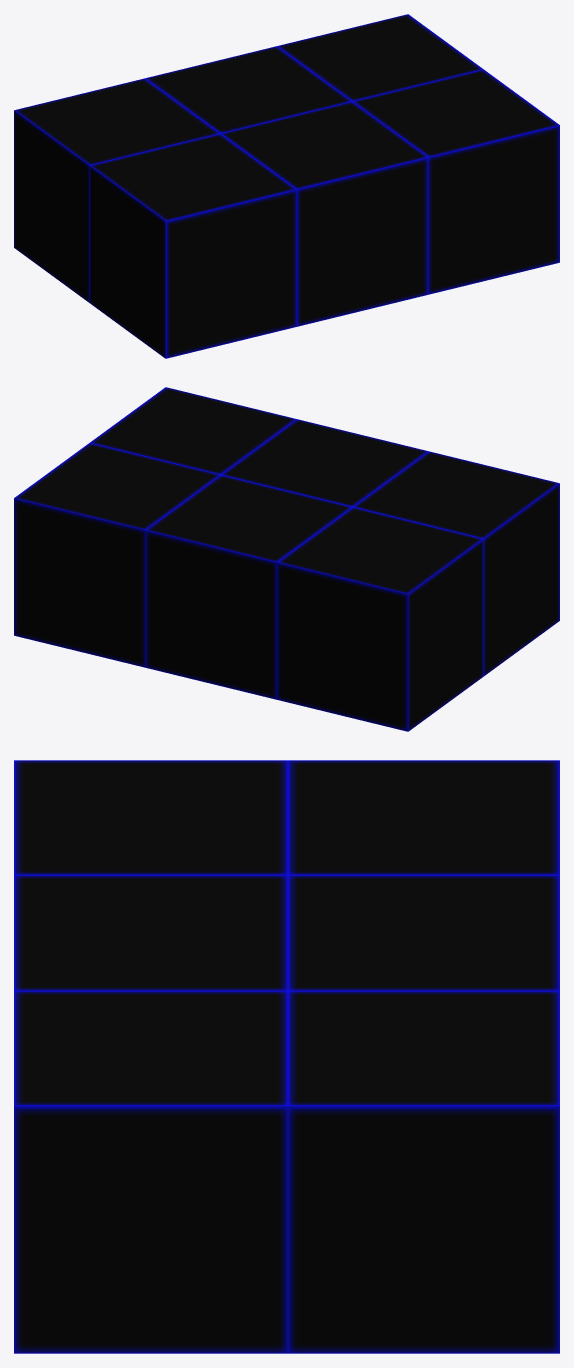
The picture shows the model from 3 angles, top to bottom: view 1: azimuth 30°, elevation 25°; view 2: azimuth 150°, elevation 25°; view 3: azimuth 270°, elevation 25°; orthographic projection. The views are drawn at different scales.
Visible parts, largest first — view 1: Box001; view 2: Box001; view 3: Box001.
Part boxes in pixels (x1,y1,x2,y2): Box001: (14,14,559,358); Box001: (14,387,559,731); Box001: (14,760,559,1353).
Size of the model in its own units: 3 by 1 by 2.
1 material, 1 textured.
